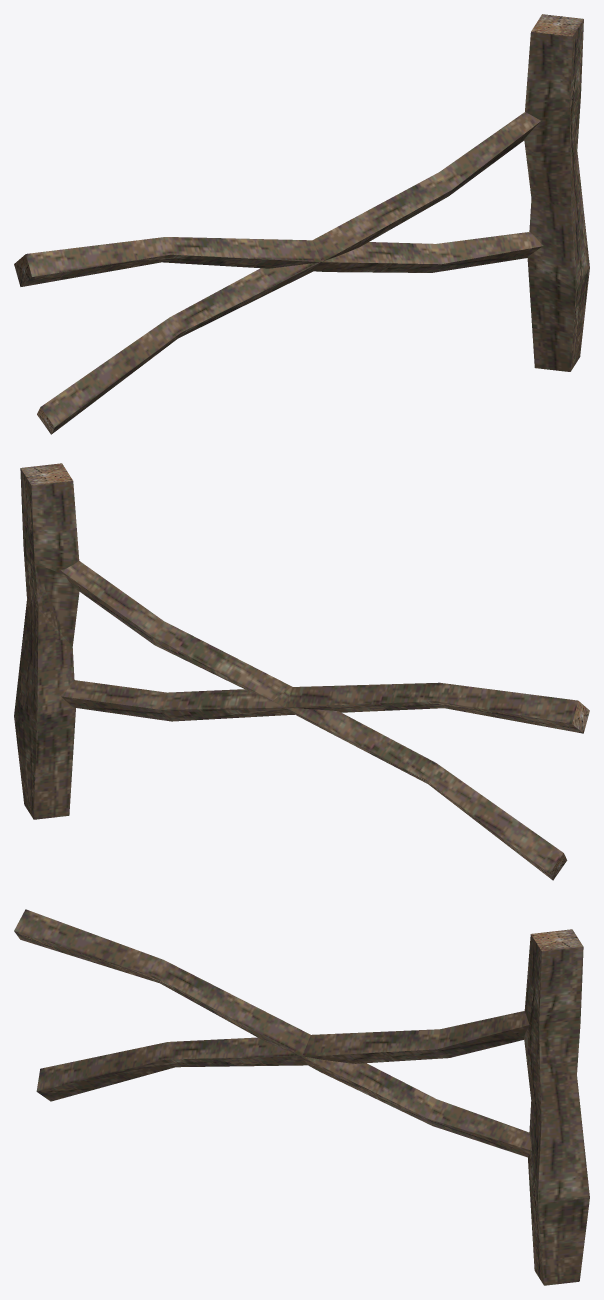
File: Urban_WoodenFenceOenCrossed_Model.fbx
3 renders of one model, top to bottom at view 1: azimuth 30°, elevation 25°; view 2: azimuth 150°, elevation 25°; view 3: azimuth 330°, elevation 25°, orthographic.
Visible parts, largest first — view 1: Urban_WoodenFenceOenCrossed_Mesh; view 2: Urban_WoodenFenceOenCrossed_Mesh; view 3: Urban_WoodenFenceOenCrossed_Mesh.
Part boxes in pixels (x1,y1,x2,y2): Urban_WoodenFenceOenCrossed_Mesh: (14,14,589,434); Urban_WoodenFenceOenCrossed_Mesh: (14,463,589,880); Urban_WoodenFenceOenCrossed_Mesh: (14,909,589,1285).
Size of the model in its own units: 2.12 by 1.2 by 0.237.
